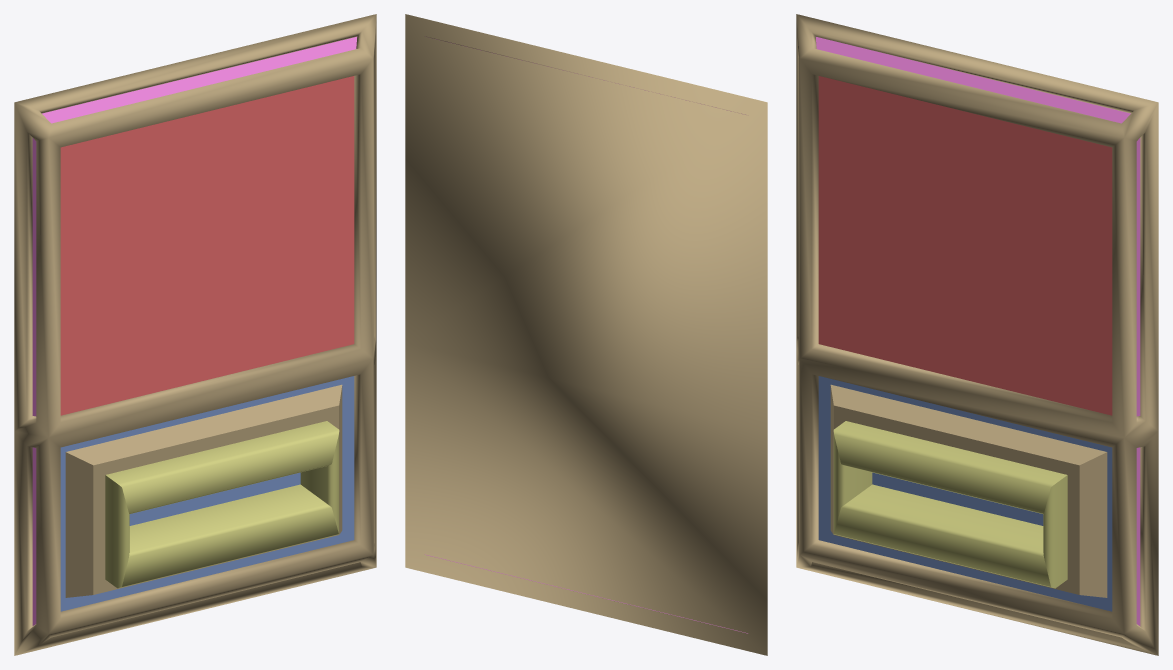
Rendered from ShipDoorSwitch.fbx.
The picture shows the model from 3 angles, left to right: view 1: azimuth 30°, elevation 25°; view 2: azimuth 150°, elevation 25°; view 3: azimuth 330°, elevation 25°; orthographic projection.
Parts seen in each view (by area): view 1: ShipSwitchHousing; view 2: ShipSwitchHousing; view 3: ShipSwitchHousing.
Part boxes in pixels (x1,y1,x2,y2): ShipSwitchHousing: [14, 14, 376, 655]; ShipSwitchHousing: [405, 14, 767, 655]; ShipSwitchHousing: [796, 14, 1158, 655].
Size of the model in its own units: 60.56 by 88.47 by 10.17.
